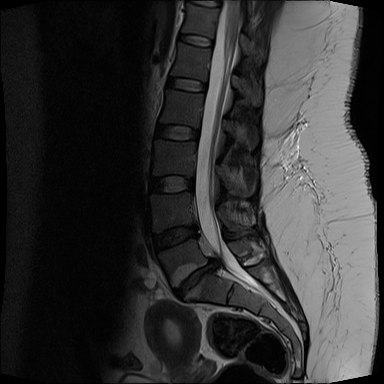Lumbar Disc Bulge (LDB): (168, 254, 227, 303), (146, 215, 205, 259)
Normal IVD: (144, 171, 195, 195), (153, 119, 201, 142), (164, 74, 209, 94), (175, 31, 215, 51)
Spinal Stenosis (SS): (201, 249, 226, 280), (184, 219, 203, 243)
